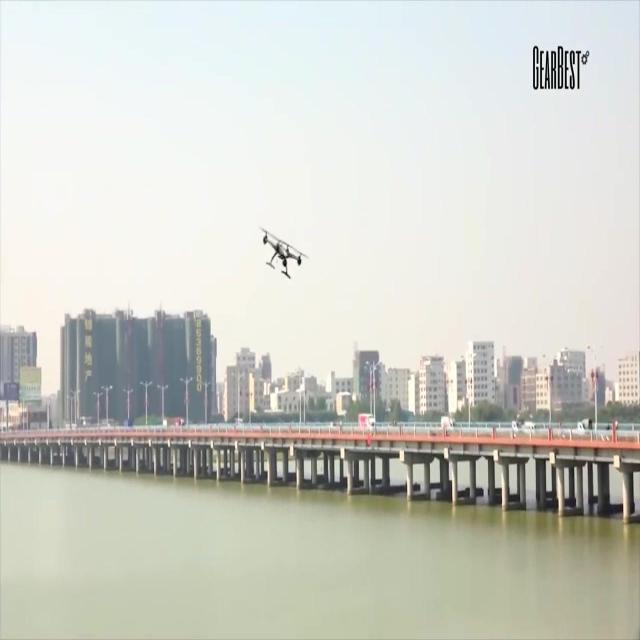drone: (257, 222, 310, 291)
